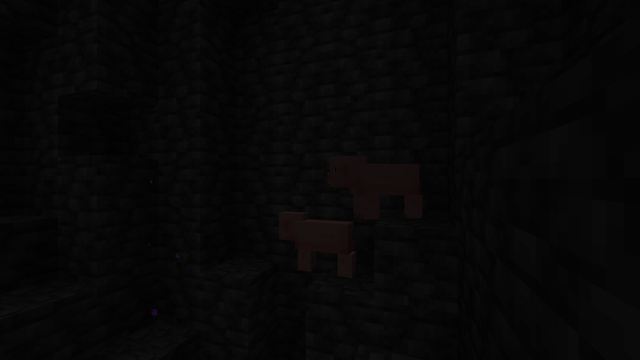cochons: (294, 216, 353, 279), (350, 161, 409, 221)
